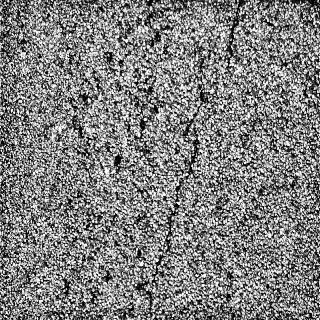crack: (142, 108, 198, 320), (226, 0, 246, 69)
